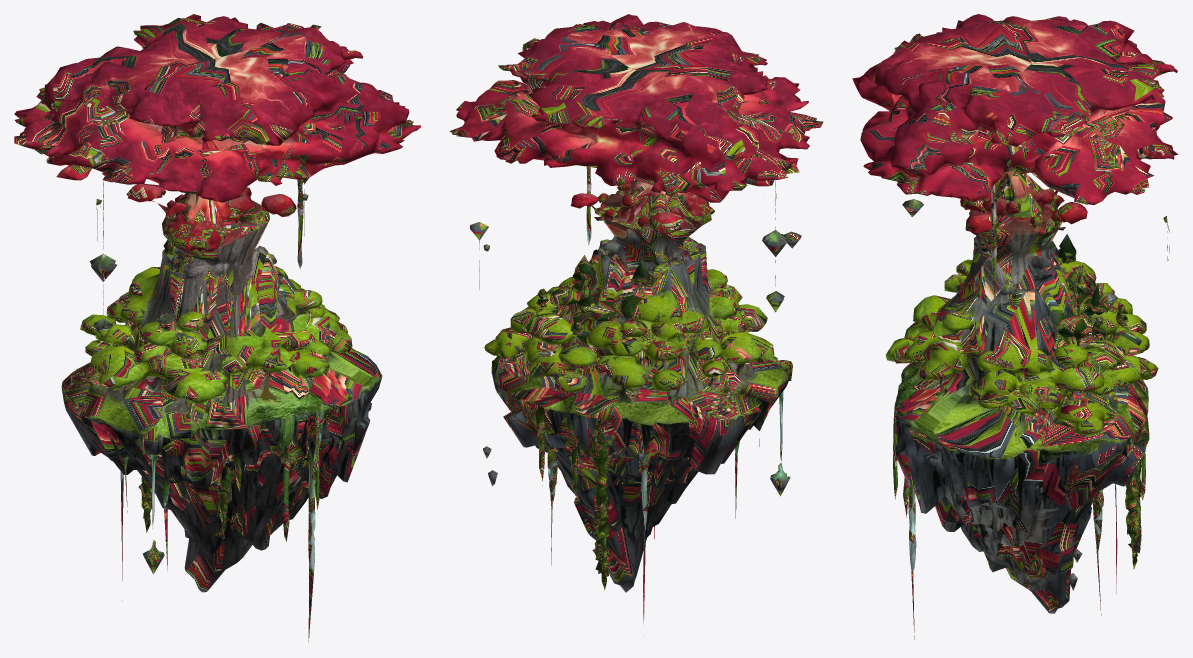
Rendered from Embercrest_Island.glb.
The picture shows the model from 3 angles, left to right: view 1: azimuth 30°, elevation 25°; view 2: azimuth 150°, elevation 25°; view 3: azimuth 270°, elevation 25°; orthographic projection. The views are drawn at different scales.
Visible parts, largest first — view 1: Embercrest_Island; view 2: Embercrest_Island; view 3: Embercrest_Island.
Part boxes in pixels (x1,y1,x2,y2): Embercrest_Island: (14, 14, 420, 641); Embercrest_Island: (449, 14, 823, 636); Embercrest_Island: (852, 14, 1178, 639).
Size of the model in its own units: 1.18 by 1.89 by 0.9554.
Materials: 1 (1 with a texture image).
